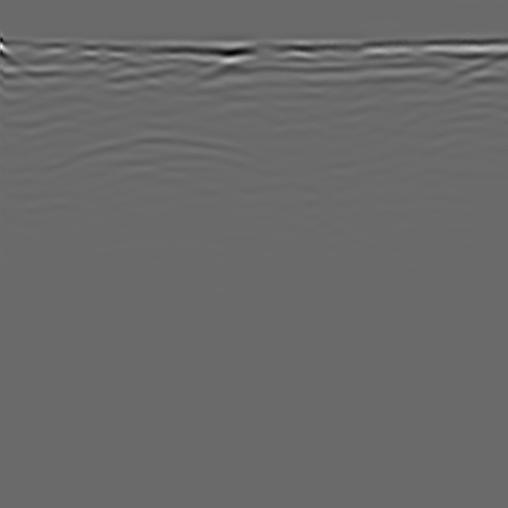hyperbola: (22, 116, 304, 213)
